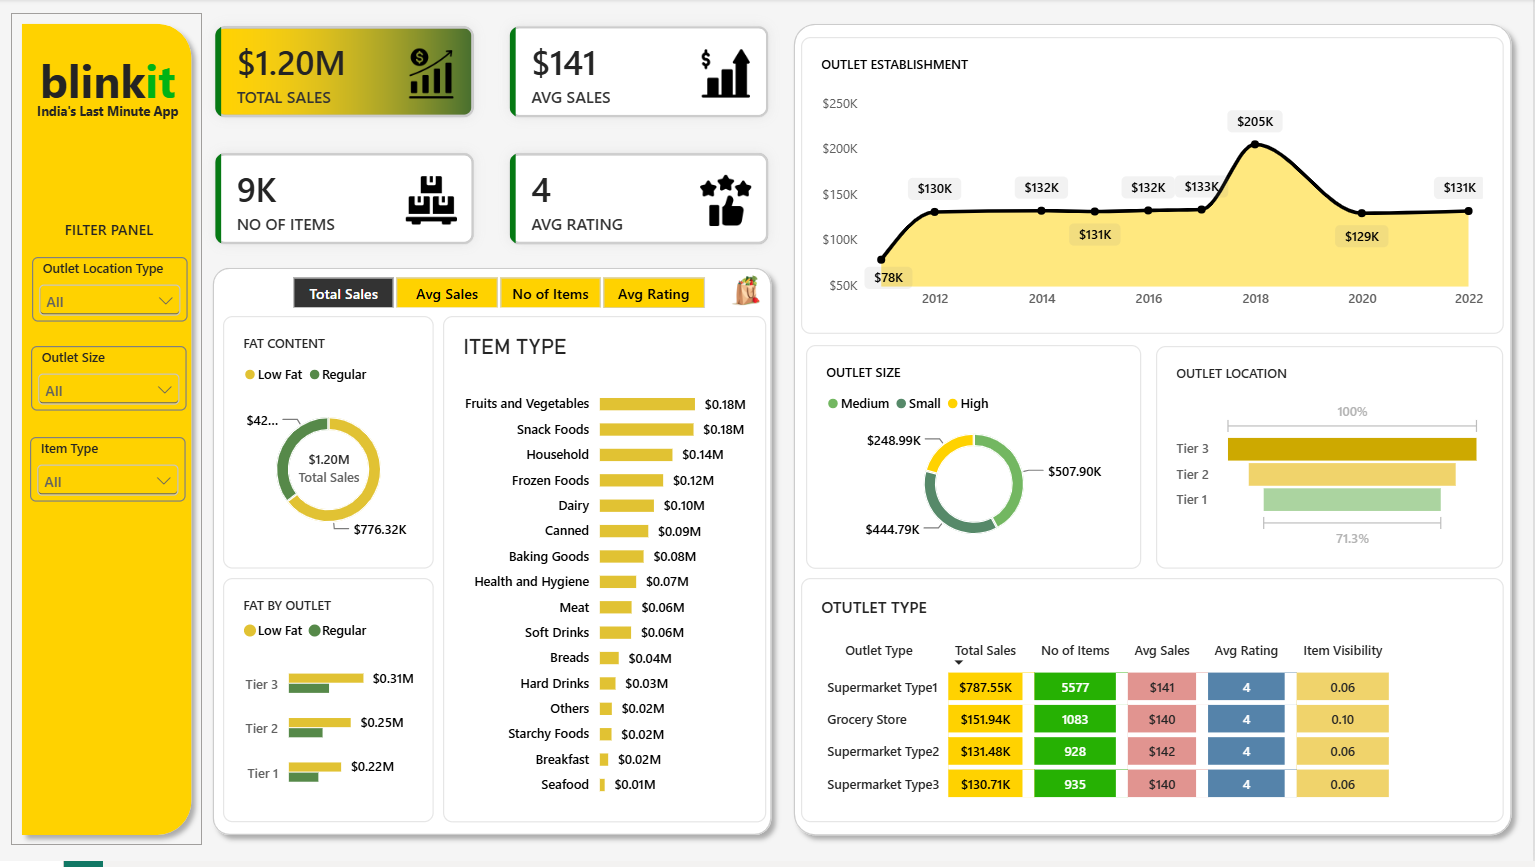

This screenshot's page, from the dashboard's own definition file:
{"tool":"powerbi","page":{"name":"Page 1","canvas":[1280,720],"ordinal":0},"visuals":[{"type":"shape","box":[9.3,11.3,159.7,695.5],"z":0},{"type":"textbox","box":[24.7,42.3,129.9,52.6],"z":1000},{"type":"textbox","box":[24.7,82.5,129.9,21.6],"z":2000},{"type":"cardVisual","fields":{"Data":["BlinkIT Grocery Data.Total Sales","BlinkIT Grocery Data.Avg Sales","BlinkIT Grocery Data.No of Items","BlinkIT Grocery Data.Avg Rating"]},"box":[169.1,11.3,484.5,204.1],"z":3000},{"type":"shape","box":[169.1,215.5,484.5,491.8],"z":4000},{"type":"slicer","fields":{"Values":["Metrics.Metrics"]},"box":[223.7,230.9,383.5,26.8],"z":5000},{"type":"donutChart","title":"FAT CONTENT","fields":{"Y":["BlinkIT Grocery Data.Total Sales"],"Category":["BlinkIT Grocery Data.Item Fat Content"]},"box":[186.6,264.9,176.3,211.3],"z":6000},{"type":"cardVisual","fields":{"Data":["BlinkIT Grocery Data.Total Sales"]},"box":[232,378.4,85.6,28.9],"z":7000},{"type":"clusteredBarChart","title":"FAT BY OUTLET","fields":{"Y":["BlinkIT Grocery Data.Total Sales"],"Category":["BlinkIT Grocery Data.Outlet Location Type"],"Series":["BlinkIT Grocery Data.Item Fat Content"]},"box":[186.6,483.5,176.3,204.1],"z":8000},{"type":"barChart","title":"ITEM TYPE","fields":{"Y":["BlinkIT Grocery Data.Total Sales"],"Category":["BlinkIT Grocery Data.Item Type"]},"box":[370.1,264.9,270.1,422.7],"z":9000},{"type":"image","box":[606.2,226.8,34,30.9],"z":10000},{"type":"shape","box":[653.6,11.3,617.5,695.9],"z":11000},{"type":"lineChart","title":"OUTLET ESTABLISHMENT","fields":{"Y":["BlinkIT Grocery Data.Total Sales"],"Category":["BlinkIT Grocery Data.Outlet Establishment Year"]},"box":[669.1,32,586.6,248.5],"z":12000},{"type":"donutChart","title":"OUTLET SIZE","fields":{"Category":["BlinkIT Grocery Data.Outlet Size"],"Y":["BlinkIT Grocery Data.Total Sales"]},"box":[673.2,288.7,280.4,186.6],"z":13000},{"type":"funnel","title":"OUTLET LOCATION","fields":{"Y":["Sum(BlinkIT Grocery Data.Sales)"],"Category":["BlinkIT Grocery Data.Outlet Location Type"]},"box":[966,289.7,289.7,185.6],"z":14000},{"type":"pivotTable","title":"OTUTLET TYPE","fields":{"Rows":["BlinkIT Grocery Data.Outlet Type"],"Values":["BlinkIT Grocery Data.Total Sales","BlinkIT Grocery Data.No of Items","BlinkIT Grocery Data.Avg Sales","BlinkIT Grocery Data.Avg Rating","Avg(BlinkIT Grocery Data.Item Visibility)"]},"box":[669.1,483.5,586.6,204.1],"z":15000},{"type":"slicer","fields":{"Values":["BlinkIT Grocery Data.Outlet Location Type"]},"box":[24.7,161.9,129.9,53.6],"z":16000},{"type":"slicer","fields":{"Values":["BlinkIT Grocery Data.Outlet Size"]},"box":[24.7,226.8,129.9,53.6],"z":17000},{"type":"slicer","fields":{"Values":["BlinkIT Grocery Data.Item Type"]},"box":[24.7,293.8,129.9,53.6],"z":18000},{"type":"textbox","box":[24.7,129.9,129.9,26.8],"z":19000}]}

Visuals, with their boxes in screenshot pixels (x1, y1, x2, y2), scaled from the page's 1280x720 canvas onto the 1535x867 screenshot:
shape: rect(11, 14, 203, 851)
textbox: rect(30, 51, 185, 114)
textbox: rect(30, 99, 185, 125)
cardVisual - BlinkIT Grocery Data.Total Sales x BlinkIT Grocery Data.Avg Sales: rect(203, 14, 784, 259)
shape: rect(203, 259, 784, 852)
slicer - Metrics.Metrics: rect(268, 278, 728, 310)
"FAT CONTENT" donutChart: rect(224, 319, 435, 573)
cardVisual - BlinkIT Grocery Data.Total Sales: rect(278, 456, 381, 490)
"FAT BY OUTLET" clusteredBarChart: rect(224, 582, 435, 828)
"ITEM TYPE" barChart: rect(444, 319, 768, 828)
image: rect(727, 273, 768, 310)
shape: rect(784, 14, 1524, 852)
"OUTLET ESTABLISHMENT" lineChart: rect(802, 39, 1506, 338)
"OUTLET SIZE" donutChart: rect(807, 348, 1144, 572)
"OUTLET LOCATION" funnel: rect(1158, 349, 1506, 572)
"OTUTLET TYPE" pivotTable: rect(802, 582, 1506, 828)
slicer - BlinkIT Grocery Data.Outlet Location Type: rect(30, 195, 185, 259)
slicer - BlinkIT Grocery Data.Outlet Size: rect(30, 273, 185, 338)
slicer - BlinkIT Grocery Data.Item Type: rect(30, 354, 185, 418)
textbox: rect(30, 156, 185, 189)
